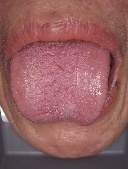tongue: (9, 51, 109, 127)
